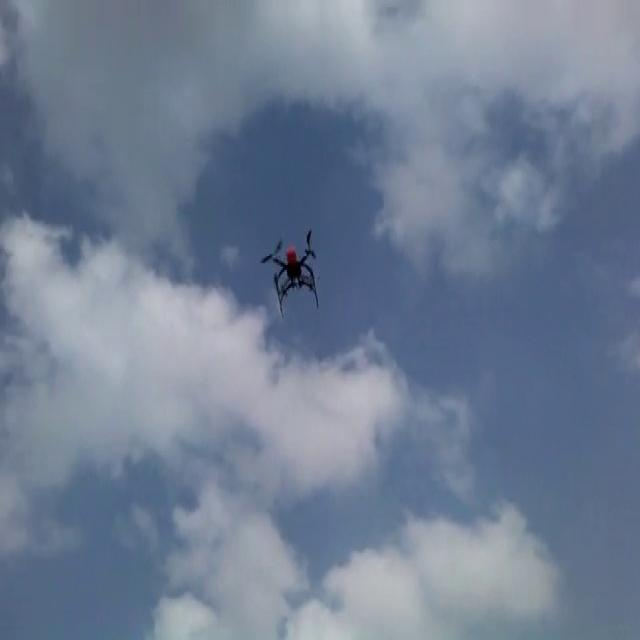drone: (257, 226, 321, 316)
